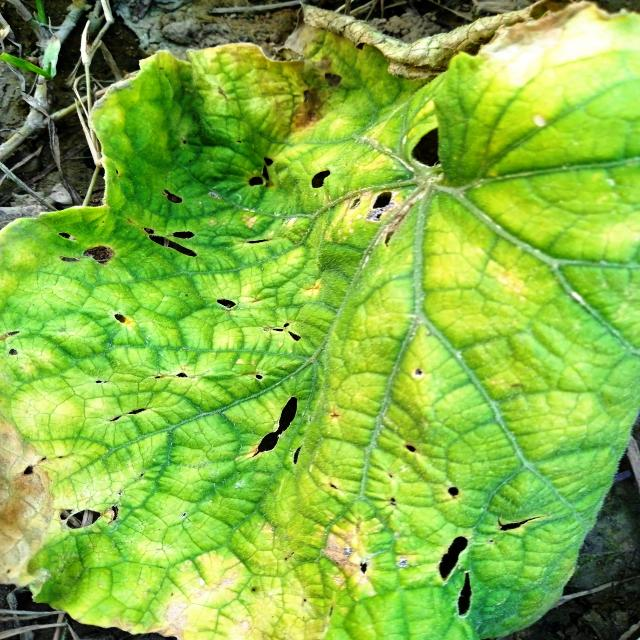Anthracnose: (128, 188, 206, 261), (434, 526, 475, 618), (256, 392, 302, 467), (59, 497, 122, 545), (52, 228, 115, 271), (243, 152, 280, 192), (366, 180, 398, 222), (306, 165, 338, 196)
